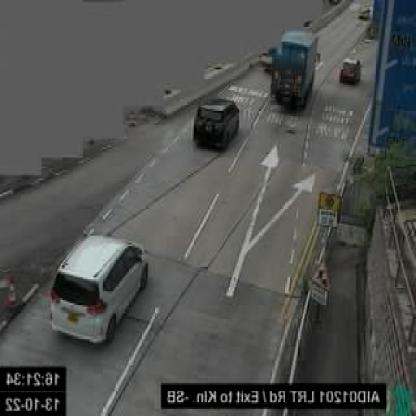Car: (47, 236, 147, 349), (193, 98, 240, 151), (340, 57, 360, 83)
Truck: (271, 30, 317, 111)
